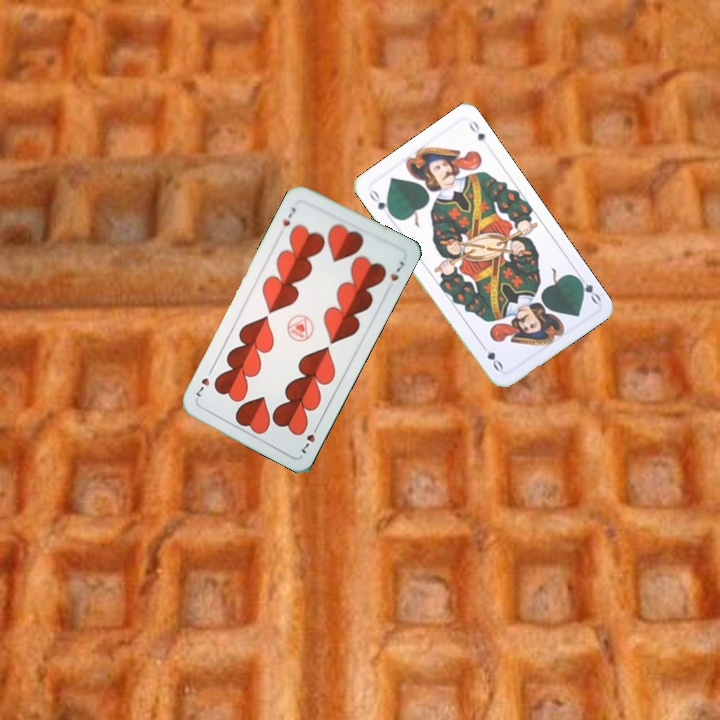GO: (571, 270, 604, 306), (365, 186, 396, 219)
H7: (295, 420, 322, 457), (278, 203, 298, 229)
